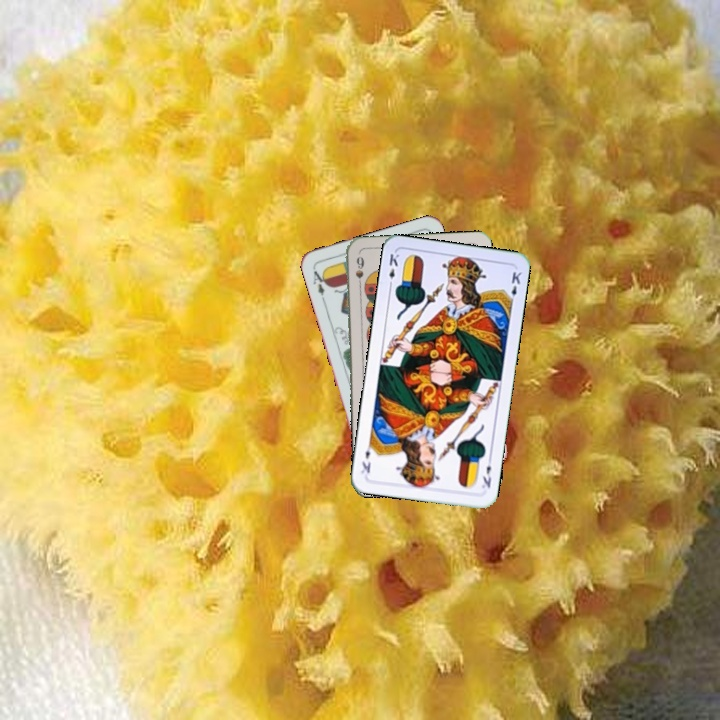EA: (309, 267, 330, 304)
EK: (385, 250, 402, 290), (478, 453, 494, 491)
S9: (352, 252, 367, 292)
